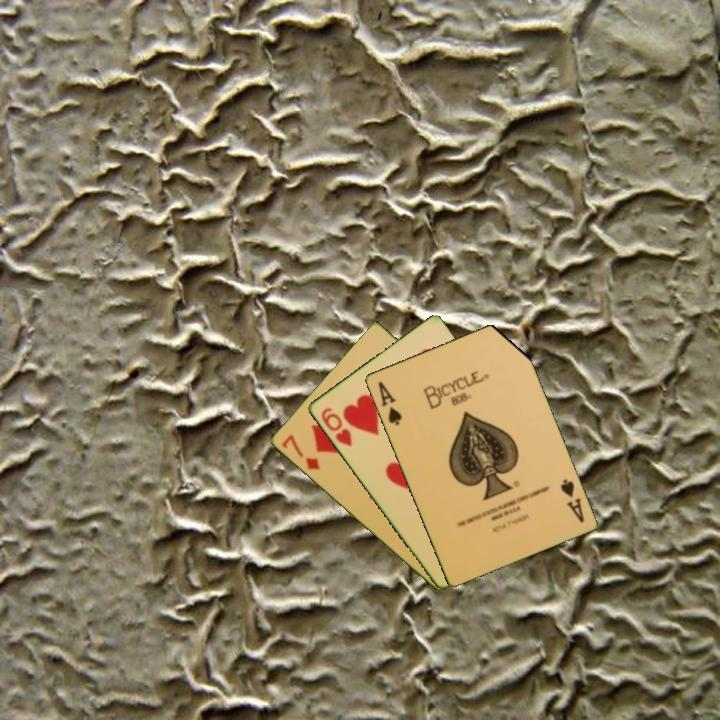6h: (317, 404, 355, 450)
7d: (278, 431, 322, 473)
As: (556, 475, 587, 525), (374, 378, 404, 428)
